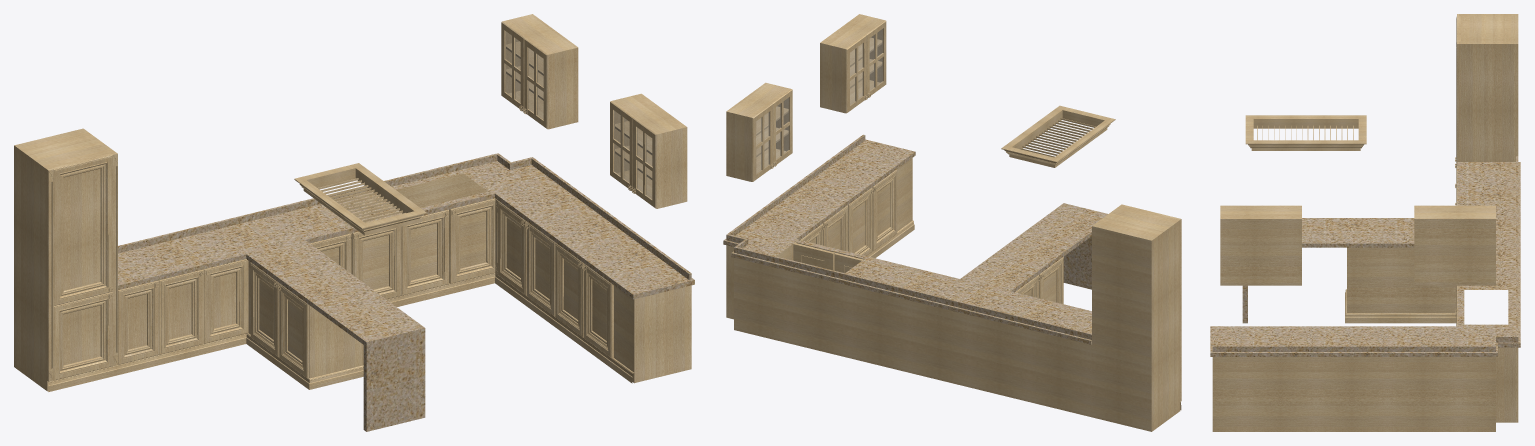
File: chugui1.fbx
The picture shows the model from 3 angles, left to right: view 1: azimuth 30°, elevation 25°; view 2: azimuth 150°, elevation 25°; view 3: azimuth 270°, elevation 25°; orthographic projection. The views are drawn at different scales.
Parts seen in each view (by area): view 1: chugui1; view 2: chugui1; view 3: chugui1.
Boxes of the visible parts, <box> form: chugui1: <box>14,14,694,431</box>; chugui1: <box>723,14,1181,431</box>; chugui1: <box>1210,14,1520,431</box>.
Size of the model in its own units: 538 by 242 by 319.
